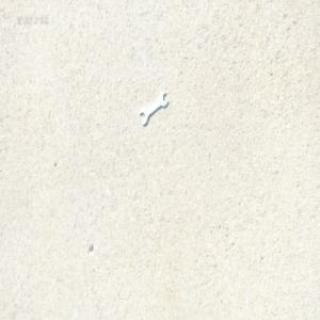Wrenchtrack_idkeyframe: (137, 90, 168, 125)
